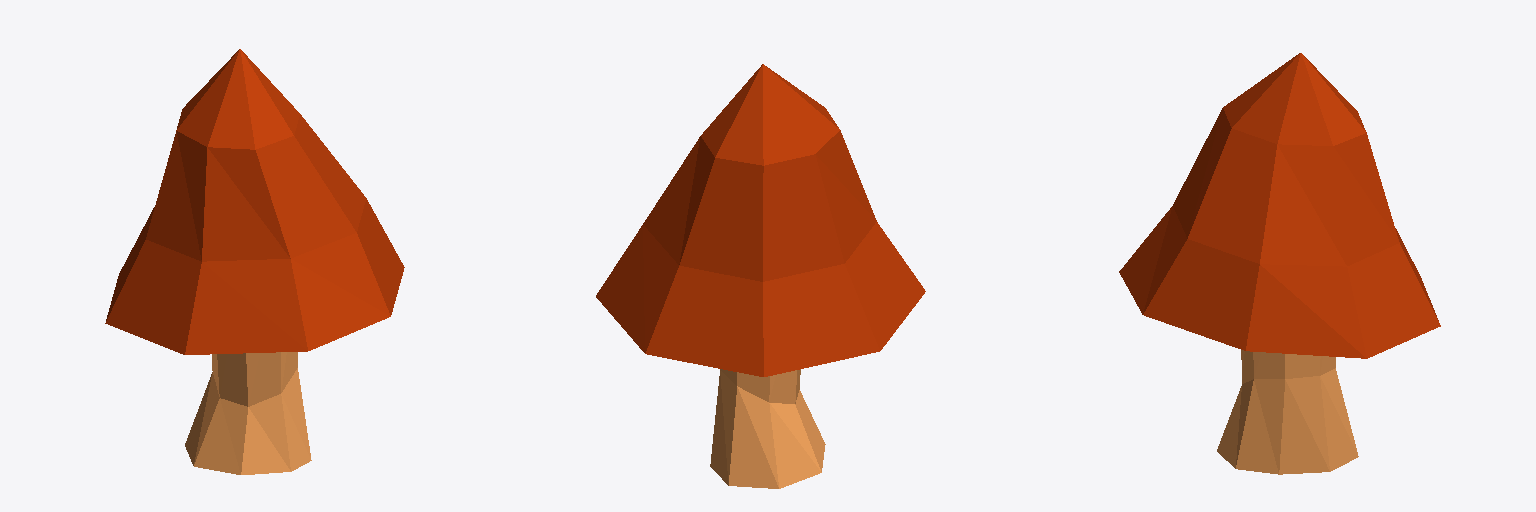
File: BrownMushroom.obj
3 renders of one model, left to right at view 1: azimuth 30°, elevation 25°; view 2: azimuth 150°, elevation 25°; view 3: azimuth 270°, elevation 25°, orthographic.
Visible parts, largest first — view 1: Mushroom2_Cylinder.054; view 2: Mushroom2_Cylinder.054; view 3: Mushroom2_Cylinder.054.
Part boxes in pixels (bbox=[...]): Mushroom2_Cylinder.054: bbox=[105, 49, 404, 474]; Mushroom2_Cylinder.054: bbox=[596, 64, 925, 488]; Mushroom2_Cylinder.054: bbox=[1119, 53, 1440, 474].
Bounding box in the file's own units: 0.5566 × 0.8134 × 0.5899.